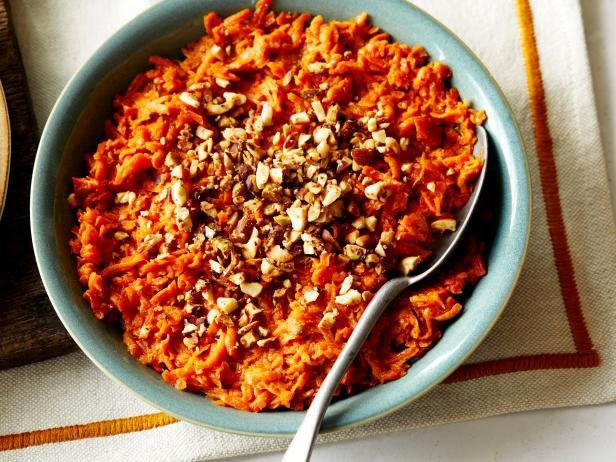Gajar ka halwa: (41, 3, 532, 431)
